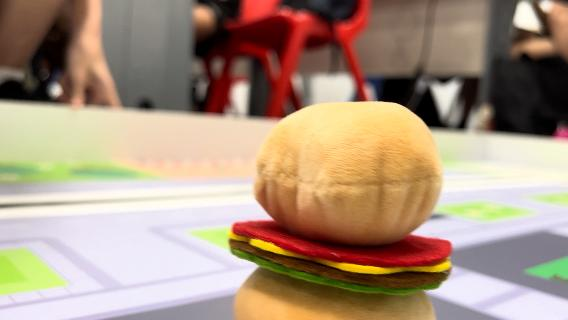burger: (226, 103, 454, 320)
